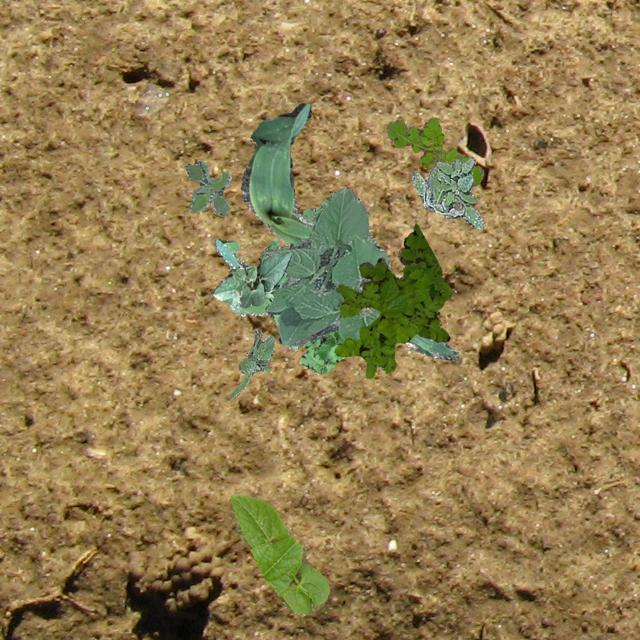crop: (240, 103, 458, 360), (262, 187, 390, 346), (230, 494, 328, 616), (210, 252, 290, 306)
weed: (334, 222, 451, 378), (213, 238, 297, 350), (386, 117, 482, 185), (411, 158, 484, 228), (228, 328, 274, 398), (183, 160, 230, 216), (300, 328, 344, 372), (299, 190, 339, 223)
